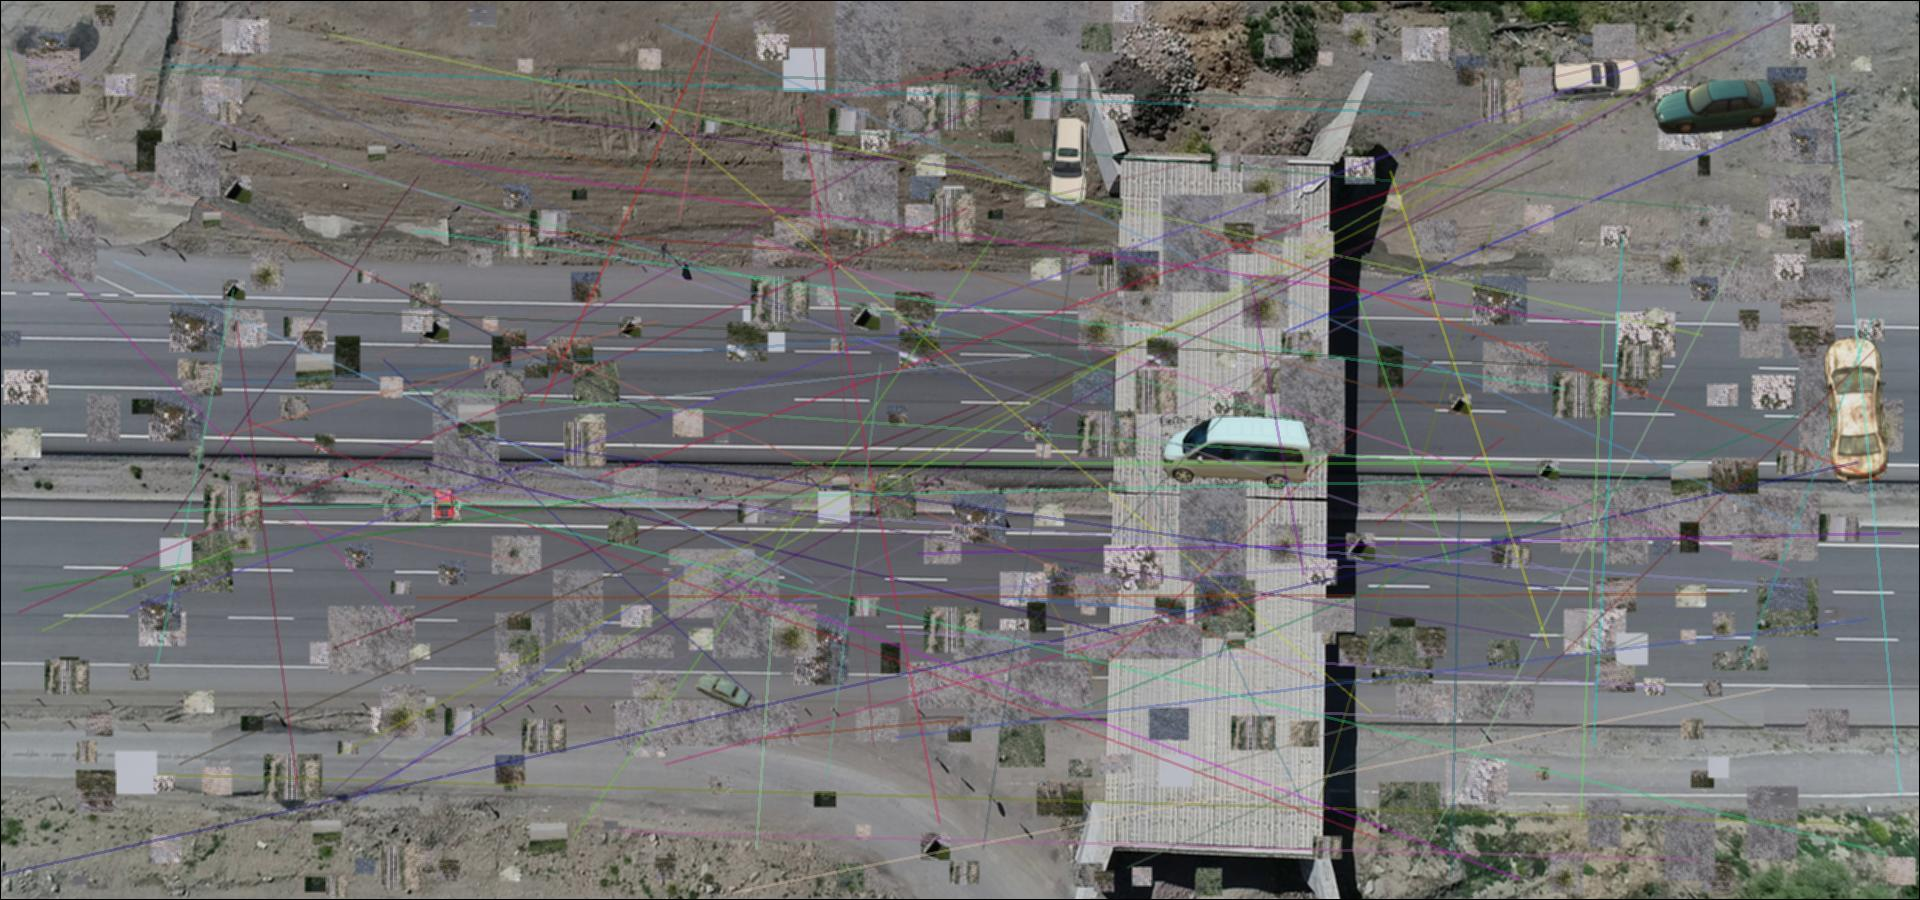arac: (1160, 416, 1318, 490), (1822, 336, 1891, 482), (1652, 80, 1778, 133), (1551, 56, 1644, 103), (1044, 118, 1092, 206), (694, 670, 752, 710), (432, 489, 456, 520)
